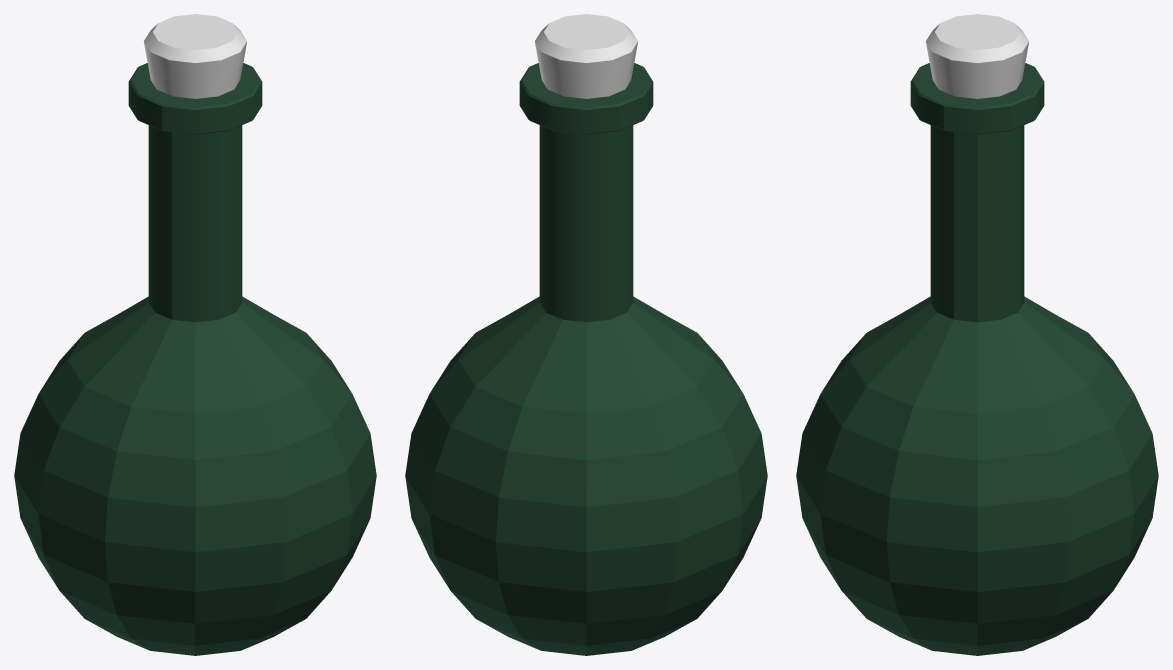
File: full_flask01.fbx
3 views of the same model, side by side, from view 1: azimuth 30°, elevation 25°; view 2: azimuth 150°, elevation 25°; view 3: azimuth 270°, elevation 25° (orthographic).
Parts seen in each view (by area): view 1: flask, crook; view 2: flask, crook; view 3: flask, crook.
Boxes of the visible parts, box(x1,y1,x2,y2) form: flask: box(14, 63, 376, 655); crook: box(143, 14, 247, 98); flask: box(405, 63, 767, 655); crook: box(535, 14, 637, 98); flask: box(796, 63, 1158, 655); crook: box(925, 14, 1028, 98).
Bounding box in the file's own units: 0.5911 × 0.5911 × 1.09.
